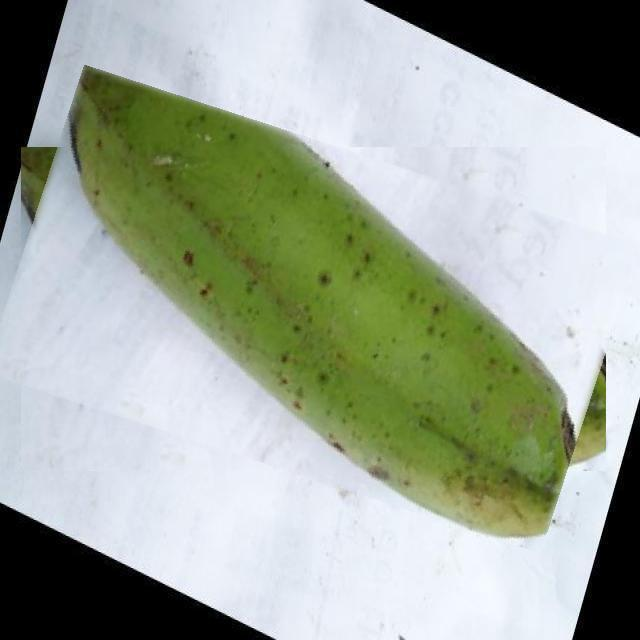Verde: (3, 106, 624, 512)
